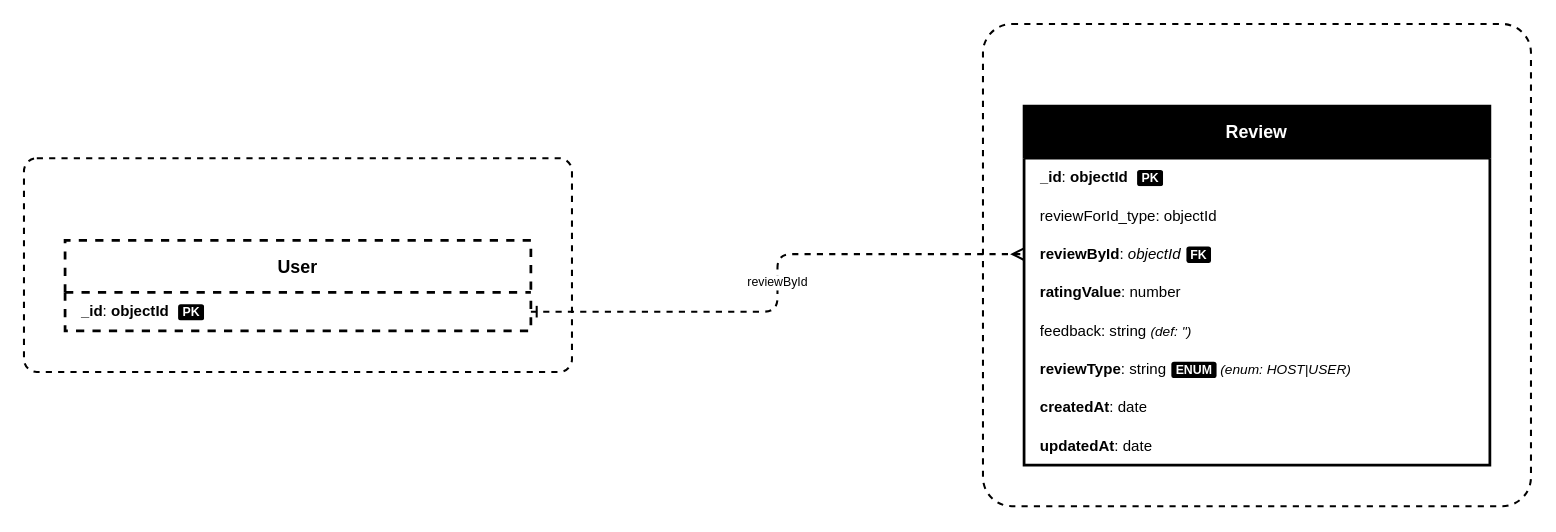
Some shapes in this 1556 by 532 pixel diagram are drawn without their labels. The shapes that lost their labels are listed below. From the top down, each one's box as (x1, y1, x2, y2) in pixels, then its label:
(22, 157, 572, 372): Parent Lookups / External Dependencies
(981, 22, 1531, 507): Core Module: Review
